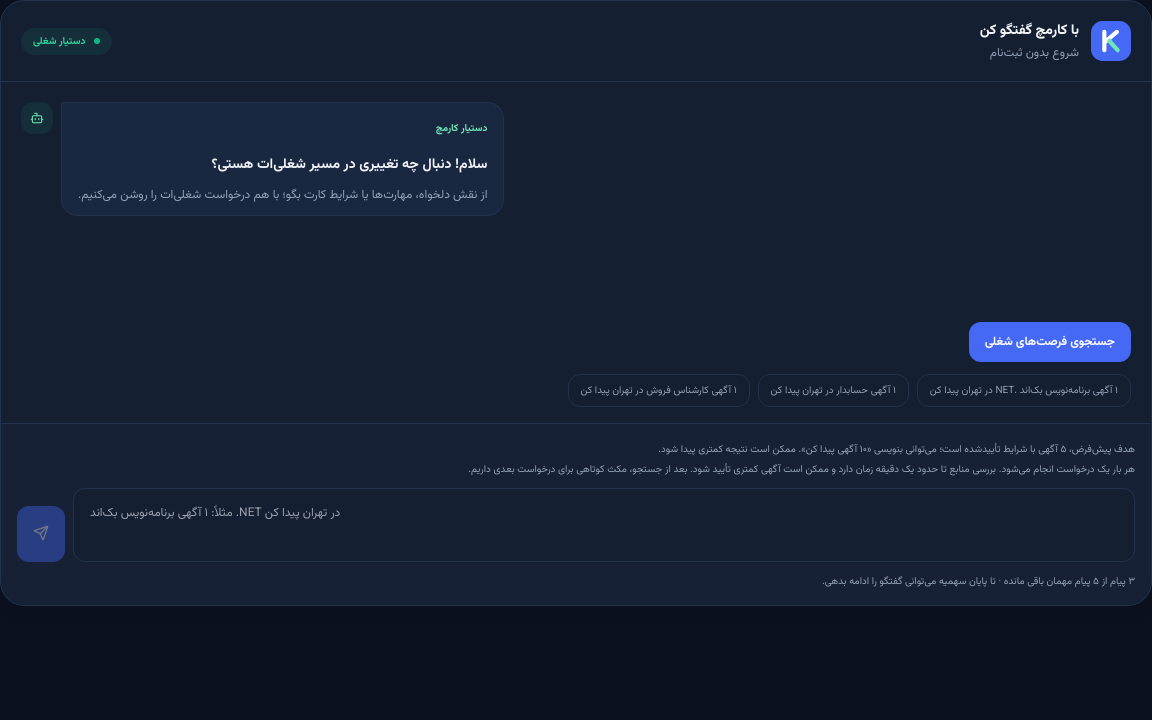
Test: Guest conversation › starts discovery for an already prepared guest conversation
Step 1. Click the button "جستجوی فرصت‌های شغلی" → point(1050, 342), box [969,322,1131,362]
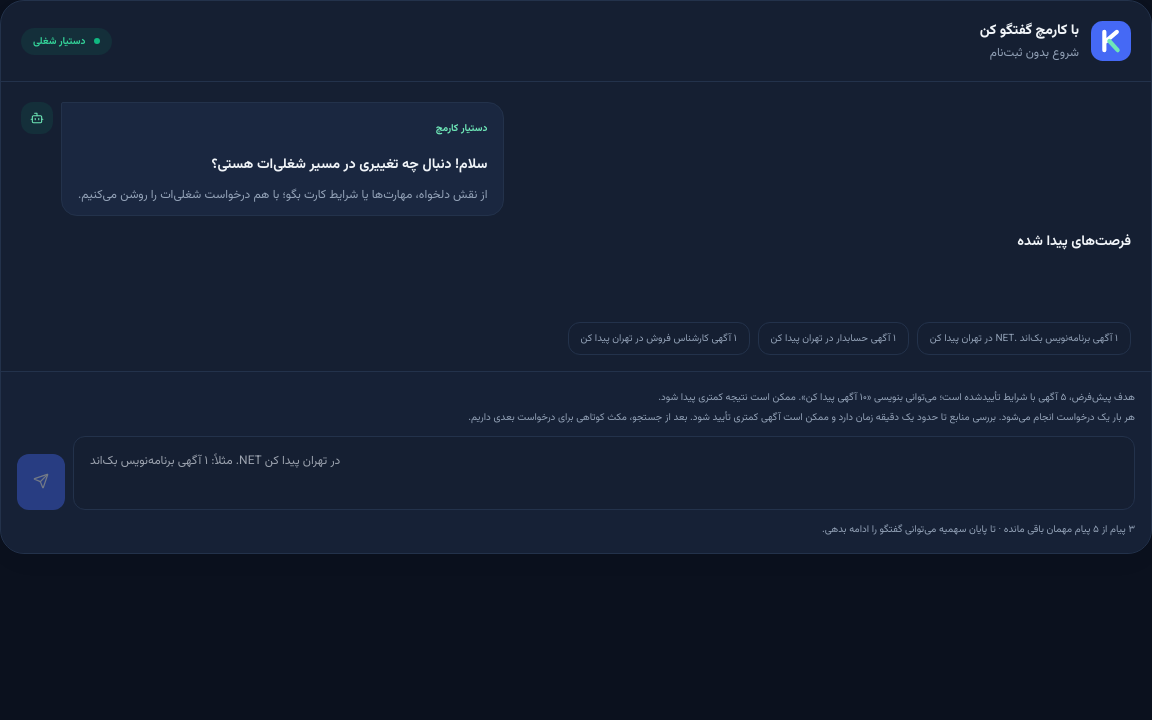
Check: the element named "نتایج جستجوی مهمان" is shown, box [1017,231,1131,253]
